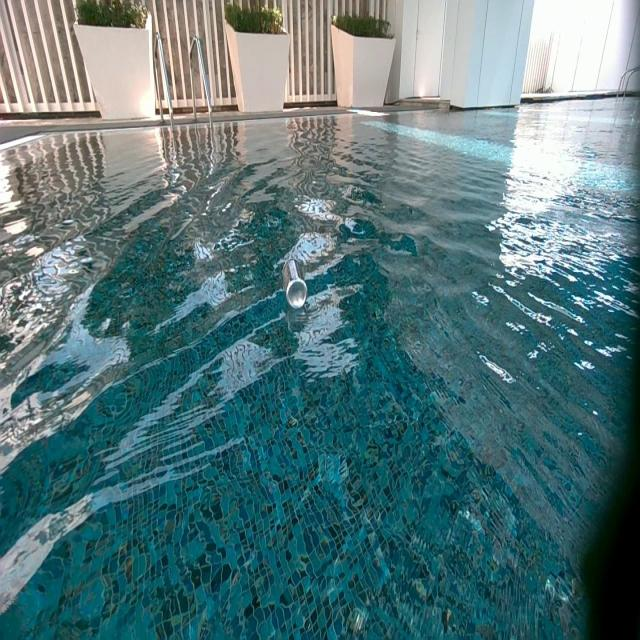Cans: (282, 258, 308, 308)
